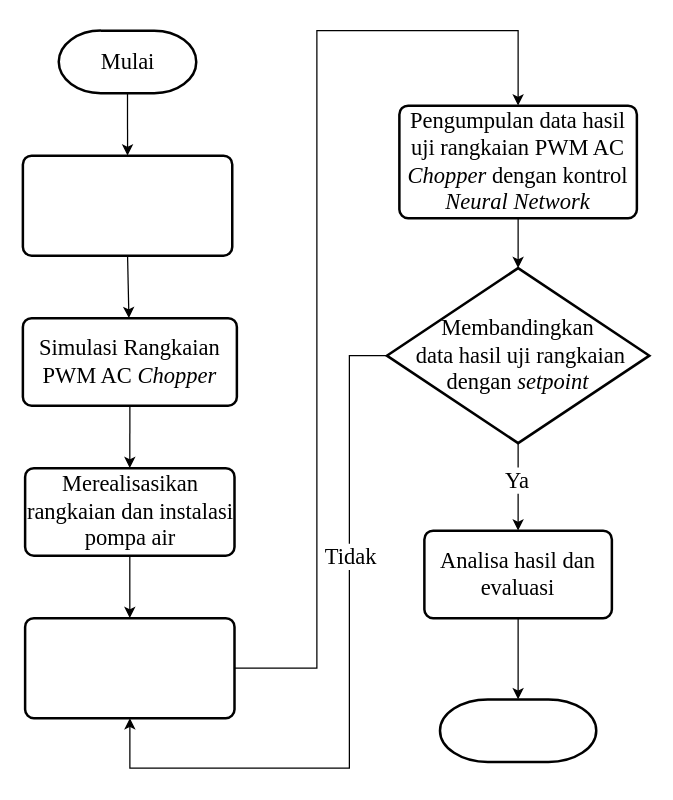
This 673x800 diagram has some shape labels left out. Here are the shapes that lost their labels. From the top down, the centre of each, then its label:
At (x=127, y=205): "Pembuatan Desain Rangkaian PWM AC Chopper".
At (x=129, y=667): "Pengambilan data untuk melatih Neural Network".
At (x=517, y=730): "Selesai".
